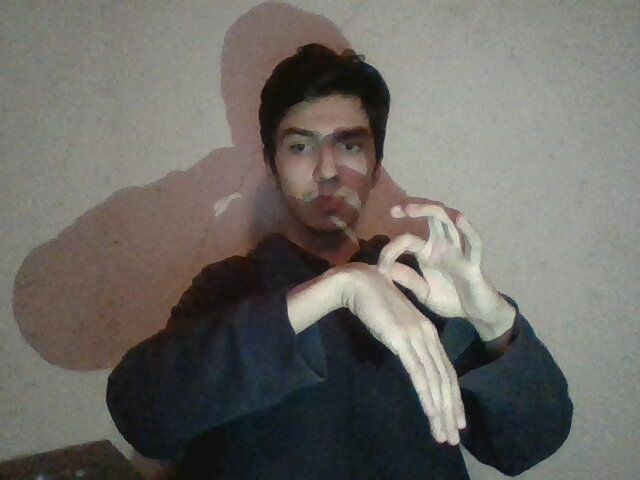carne: (293, 192, 527, 447)
